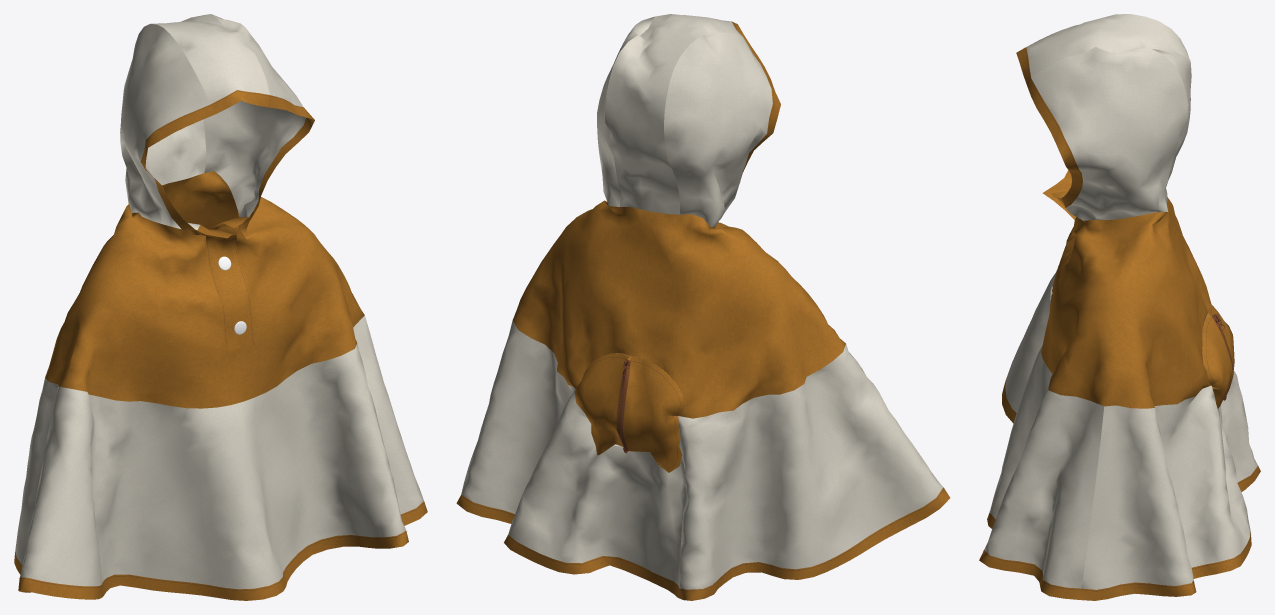
File: Cafe.glb
3 renders of one model, left to right at view 1: azimuth 30°, elevation 25°; view 2: azimuth 150°, elevation 25°; view 3: azimuth 270°, elevation 25°, orthographic. The views are drawn at different scales.
Visible parts, largest first — view 1: Cloth; view 2: Cloth; view 3: Cloth.
Part boxes in pixels (box(x1,y1,x2,y2)): Cloth: box(14, 14, 427, 600); Cloth: box(456, 14, 950, 600); Cloth: box(979, 14, 1260, 600).
Size of the model in its own units: 0.5872 by 0.7008 by 0.3571.
Materials: 13 (12 with a texture image).
